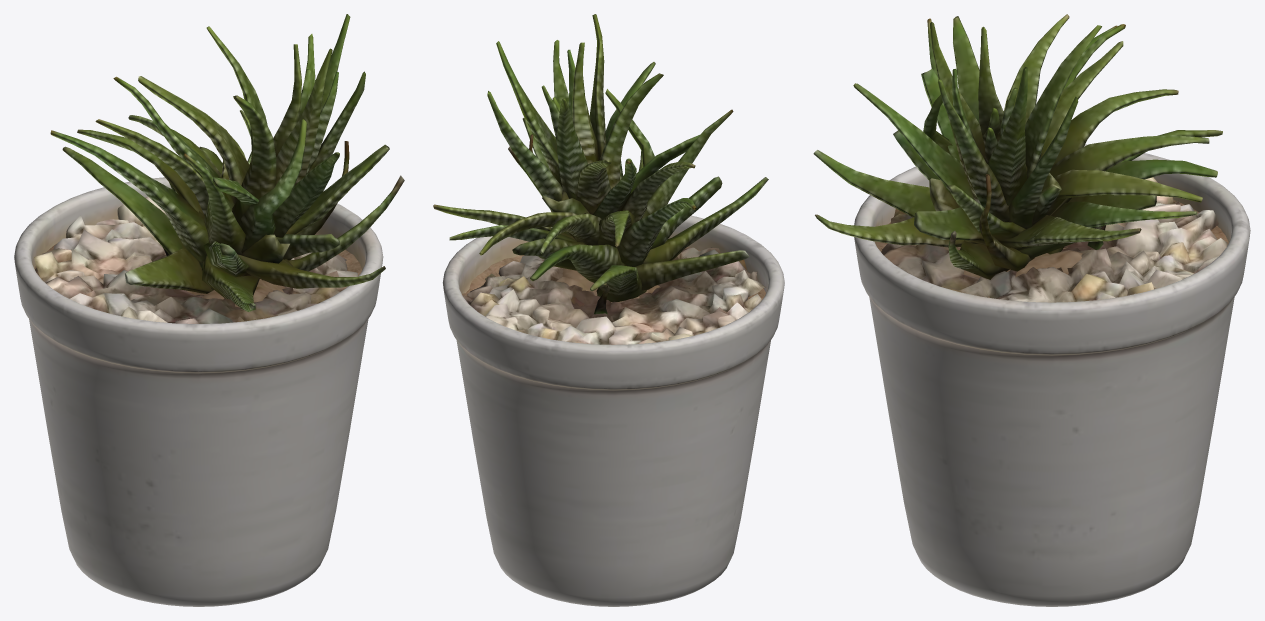
File: plant.glb
The picture shows the model from 3 angles, left to right: view 1: azimuth 30°, elevation 25°; view 2: azimuth 150°, elevation 25°; view 3: azimuth 270°, elevation 25°; orthographic projection. The views are drawn at different scales.
Parts seen in each view (by area): view 1: pot, plant, ground, dirt; view 2: pot, plant, ground, dirt; view 3: pot, plant, ground, dirt.
Boxes of the visible parts, left/top/right/bottom form: pot: left=14, top=177, right=383, bottom=606; plant: left=50, top=14, right=404, bottom=311; ground: left=34, top=196, right=357, bottom=323; dirt: left=34, top=238, right=362, bottom=307; pot: left=442, top=215, right=784, bottom=606; plant: left=433, top=14, right=768, bottom=314; ground: left=463, top=247, right=765, bottom=344; dirt: left=462, top=247, right=765, bottom=306; pot: left=854, top=144, right=1250, bottom=606; plant: left=813, top=14, right=1222, bottom=279; ground: left=881, top=177, right=1227, bottom=302; dirt: left=875, top=200, right=1228, bottom=297.
Bounding box in the file's own units: 0.1679 × 0.2675 × 0.1848.
1 material, 1 textured.
